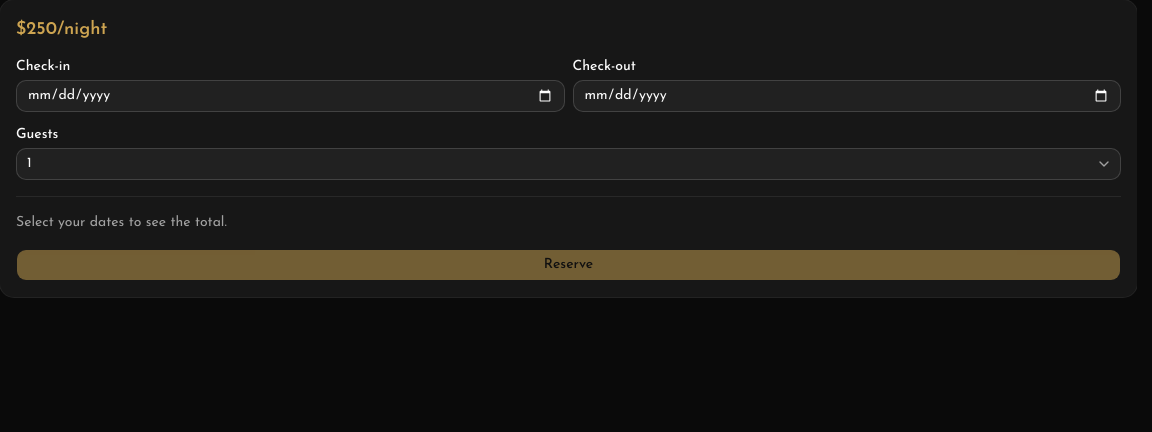
Test: CabinBookingPanel › shows every violation message when the dates are unavailable
This screenshot has width=1152, height=432.
Type "2026-08-15" into the date field labelled "Check-in" at (290, 96), box [16,80,564,112]
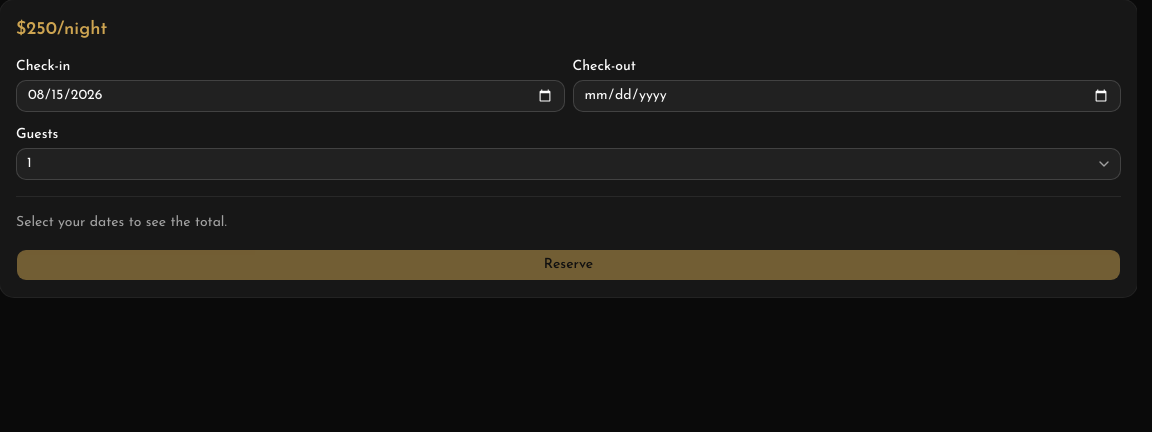
Type "2026-08-18" into the date field labelled "Check-out" at (847, 96), box [572,80,1121,112]
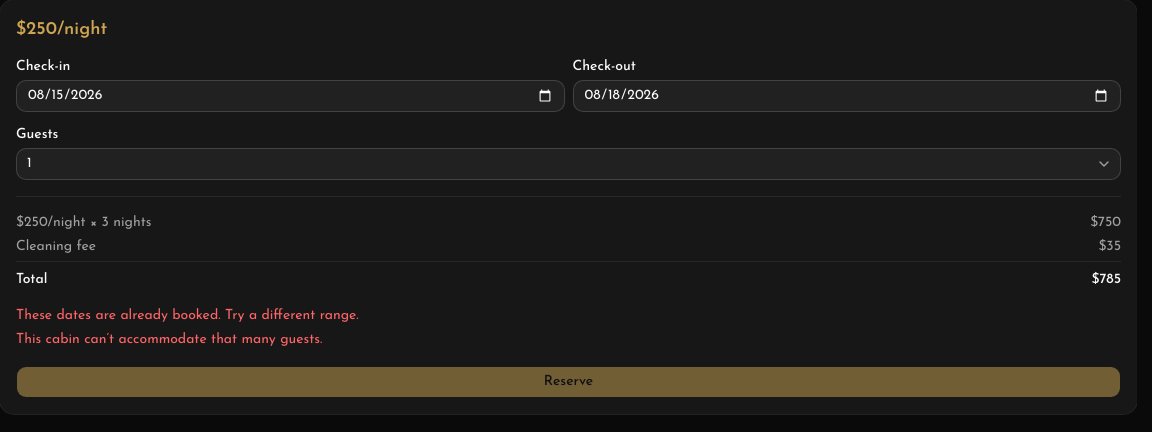
Expected: the button "Reserve" is disabled, [16,366,1121,398]
Expected: the list item "These dates are already booked. Try a different range." is shown, [16,308,359,323]
Expected: the list item "This cabin can’t accommodate that many guests." is shown, [16,332,322,347]
